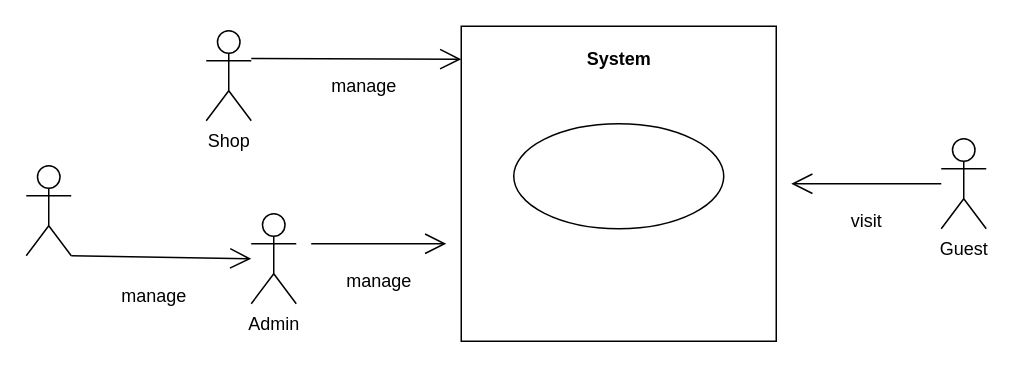
Some shapes in this 1014 by 368 pixel diagram are drawn without their labels. Each missing label, with the box of its shape:
Koi Care at home: (512, 122, 724, 229)
User: (25, 164, 71, 256)
